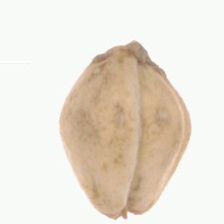L1: (89, 38, 164, 74), (96, 204, 150, 220)
L2: (59, 40, 192, 220)
